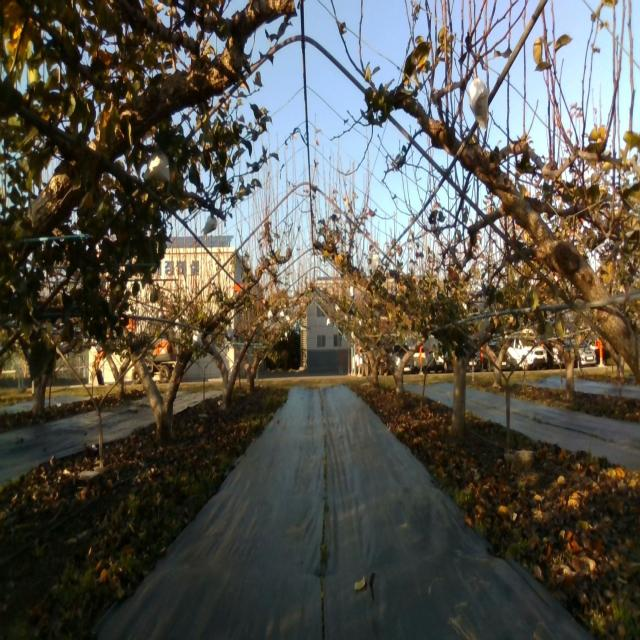pearbags: (469, 77, 488, 132), (144, 144, 170, 183), (204, 215, 218, 236)
